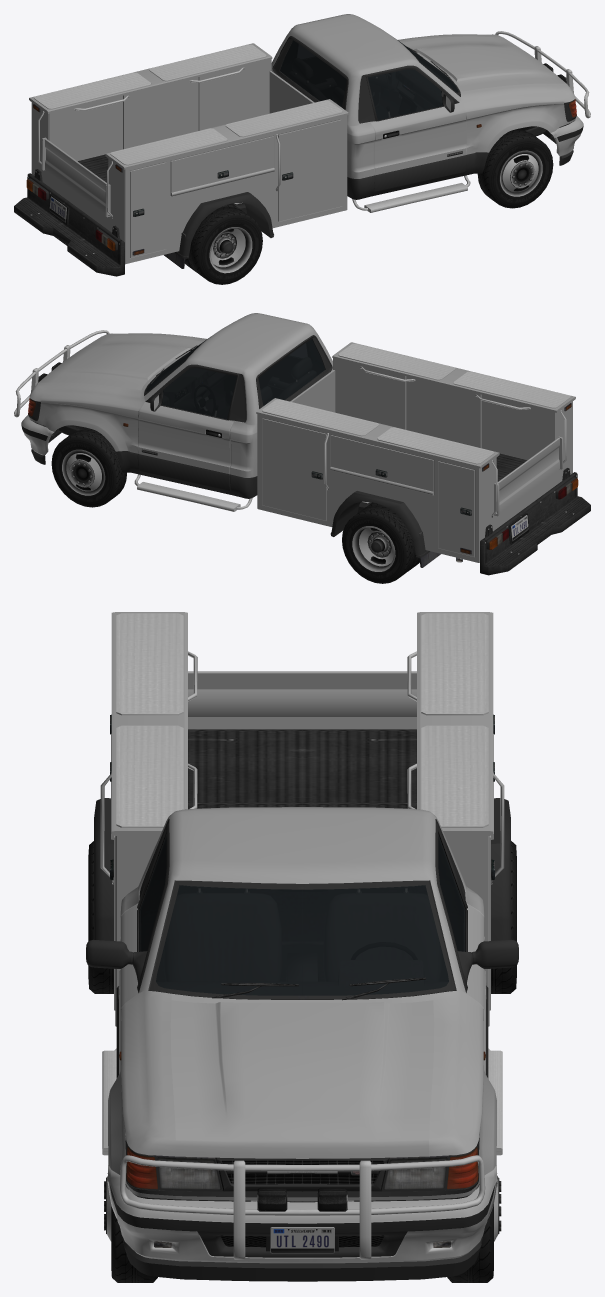
3 views of the same model, one above another, from view 1: azimuth 30°, elevation 25°; view 2: azimuth 150°, elevation 25°; view 3: azimuth 270°, elevation 25° (orthographic). The views are drawn at different scales.
Parts seen in each view (by area): view 1: UTLTRUCK90_Servisebed_UTLTRUCK90_Bodymat_0, UTLTRUCK90_Body_UTLTRUCK90_Bodymat_0, UTLTRUCK90_Servisebed_Trim_UCB_BOTTOM_0, UTLTRUCK90_bottom_UCB_BOTTOM_0, UTLTRUCK90_Hood_UTLTRUCK90_Bodymat_0, UTLTRUCK90_Interior_UCB_Interiors_1_0, UTLTRUCK90_Bumper_rear_UCB_BOTTOM_0, UTLTRUCK90_WheelStock_RR_RB1c_Tire_1k_0, UTLTRUCK90_WheelStock_FR_RB1c_Tire_1k_0, UTLTRUCK90_Glass_Passenger_UCB_Lights_and_Glass_Transperent_, UTLTRUCK90_Glass_Rear_UCB_Lights_and_Glass_Transperent_0, UTLTRUCK90_Bullbar_A_UCB_BOTTOM_0 (+3 smaller); view 2: UTLTRUCK90_Servisebed_UTLTRUCK90_Bodymat_0, UTLTRUCK90_Body_UTLTRUCK90_Bodymat_0, UTLTRUCK90_Servisebed_Trim_UCB_BOTTOM_0, UTLTRUCK90_bottom_UCB_BOTTOM_0, UTLTRUCK90_Hood_UTLTRUCK90_Bodymat_0, UTLTRUCK90_Bumper_rear_UCB_BOTTOM_0, UTLTRUCK90_Interior_UCB_Interiors_1_0, UTLTRUCK90_WheelStock_RL_RB1c_Tire_1k_0, UTLTRUCK90_WheelStock_FL_RB1c_Tire_1k_0, UTLTRUCK90_Glass_Driver_UCB_Lights_and_Glass_Transperent_0, UTLTRUCK90_Glass_Rear_UCB_Lights_and_Glass_Transperent_0, UTLTRUCK90_Bullbar_A_UCB_BOTTOM_0 (+2 smaller); view 3: UTLTRUCK90_Servisebed_Trim_UCB_BOTTOM_0, UTLTRUCK90_Body_UTLTRUCK90_Bodymat_0, UTLTRUCK90_Hood_UTLTRUCK90_Bodymat_0, UTLTRUCK90_Interior_UCB_Interiors_1_0, UTLTRUCK90_Windshield_UCB_Lights_and_Glass_Transperent_0, UTLTRUCK90_Servisebed_UTLTRUCK90_Bodymat_0, UTLTRUCK90_bottom_UCB_BOTTOM_0, UTLTRUCK90_Bumper_front_inner_UCB_BOTTOM_0, UTLTRUCK90_Bullbar_A_UCB_BOTTOM_0, UTLTRUCK90_Bumper_Front_UTLTRUCK90_Bodymat_0, UTLTRUCK90_Headlights_Glass_UCB_Lights_and_Glass_Transperent, UTLTRUCK90_Headlights_UCB_Lights_and_Glass_0 (+8 smaller).
Part boxes in pixels (<box>): UTLTRUCK90_Servisebed_UTLTRUCK90_Bodymat_0: <box>29,43,348,264</box>; UTLTRUCK90_Body_UTLTRUCK90_Bodymat_0: <box>271,14,575,178</box>; UTLTRUCK90_Servisebed_Trim_UCB_BOTTOM_0: <box>29,44,342,258</box>; UTLTRUCK90_bottom_UCB_BOTTOM_0: <box>164,36,576,268</box>; UTLTRUCK90_Hood_UTLTRUCK90_Bodymat_0: <box>402,36,566,91</box>; UTLTRUCK90_Interior_UCB_Interiors_1_0: <box>280,36,456,123</box>; UTLTRUCK90_Bumper_rear_UCB_BOTTOM_0: <box>14,169,124,276</box>; UTLTRUCK90_WheelStock_RR_RB1c_Tire_1k_0: <box>185,203,262,284</box>; UTLTRUCK90_WheelStock_FR_RB1c_Tire_1k_0: <box>477,130,553,208</box>; UTLTRUCK90_Glass_Passenger_UCB_Lights_and_Glass_Transperent_: <box>368,69,442,120</box>; UTLTRUCK90_Glass_Rear_UCB_Lights_and_Glass_Transperent_0: <box>280,40,346,106</box>; UTLTRUCK90_Bullbar_A_UCB_BOTTOM_0: <box>495,31,590,118</box>; UTLTRUCK90_Servisebed_UTLTRUCK90_Bodymat_0: <box>256,342,575,562</box>; UTLTRUCK90_Body_UTLTRUCK90_Bodymat_0: <box>29,313,332,477</box>; UTLTRUCK90_Servisebed_Trim_UCB_BOTTOM_0: <box>262,343,575,557</box>; UTLTRUCK90_bottom_UCB_BOTTOM_0: <box>28,335,462,567</box>; UTLTRUCK90_Hood_UTLTRUCK90_Bodymat_0: <box>38,335,202,390</box>; UTLTRUCK90_Bumper_rear_UCB_BOTTOM_0: <box>480,468,590,575</box>; UTLTRUCK90_Interior_UCB_Interiors_1_0: <box>148,340,323,418</box>; UTLTRUCK90_WheelStock_RL_RB1c_Tire_1k_0: <box>342,502,419,583</box>; UTLTRUCK90_WheelStock_FL_RB1c_Tire_1k_0: <box>51,429,126,507</box>; UTLTRUCK90_Glass_Driver_UCB_Lights_and_Glass_Transperent_0: <box>162,368,236,419</box>; UTLTRUCK90_Glass_Rear_UCB_Lights_and_Glass_Transperent_0: <box>258,339,325,405</box>; UTLTRUCK90_Bullbar_A_UCB_BOTTOM_0: <box>14,330,109,417</box>; UTLTRUCK90_Servisebed_Trim_UCB_BOTTOM_0: <box>94,613,510,940</box>; UTLTRUCK90_Body_UTLTRUCK90_Bodymat_0: <box>108,807,496,1200</box>; UTLTRUCK90_Hood_UTLTRUCK90_Bodymat_0: <box>170,1000,434,1158</box>; UTLTRUCK90_Interior_UCB_Interiors_1_0: <box>141,842,463,994</box>; UTLTRUCK90_Windshield_UCB_Lights_and_Glass_Transperent_0: <box>156,885,448,995</box>; UTLTRUCK90_Servisebed_UTLTRUCK90_Bodymat_0: <box>111,612,493,1026</box>; UTLTRUCK90_bottom_UCB_BOTTOM_0: <box>86,819,518,1202</box>; UTLTRUCK90_Bumper_front_inner_UCB_BOTTOM_0: <box>107,1181,497,1281</box>; UTLTRUCK90_Bullbar_A_UCB_BOTTOM_0: <box>119,1155,485,1259</box>; UTLTRUCK90_Bumper_Front_UTLTRUCK90_Bodymat_0: <box>107,1165,497,1223</box>; UTLTRUCK90_Headlights_Glass_UCB_Lights_and_Glass_Transperent: <box>126,1147,478,1190</box>; UTLTRUCK90_Headlights_UCB_Lights_and_Glass_0: <box>158,1158,446,1189</box>.
Bounding box in the file's own units: 5.37 × 1.66 × 2.
Materials: 8 (7 with a texture image).
